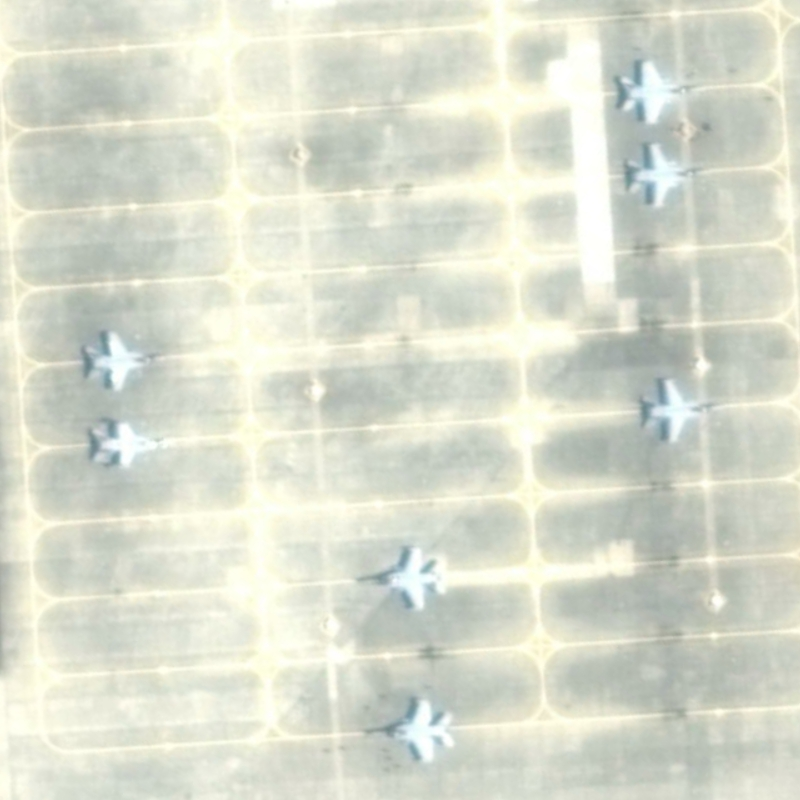A16: (352, 689, 461, 774), (605, 49, 716, 130), (632, 361, 733, 450), (344, 535, 454, 616), (75, 316, 180, 400), (620, 133, 718, 215), (76, 406, 184, 478)
